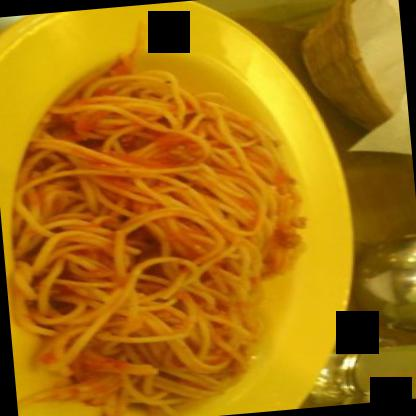pasta: (9, 56, 322, 415)
